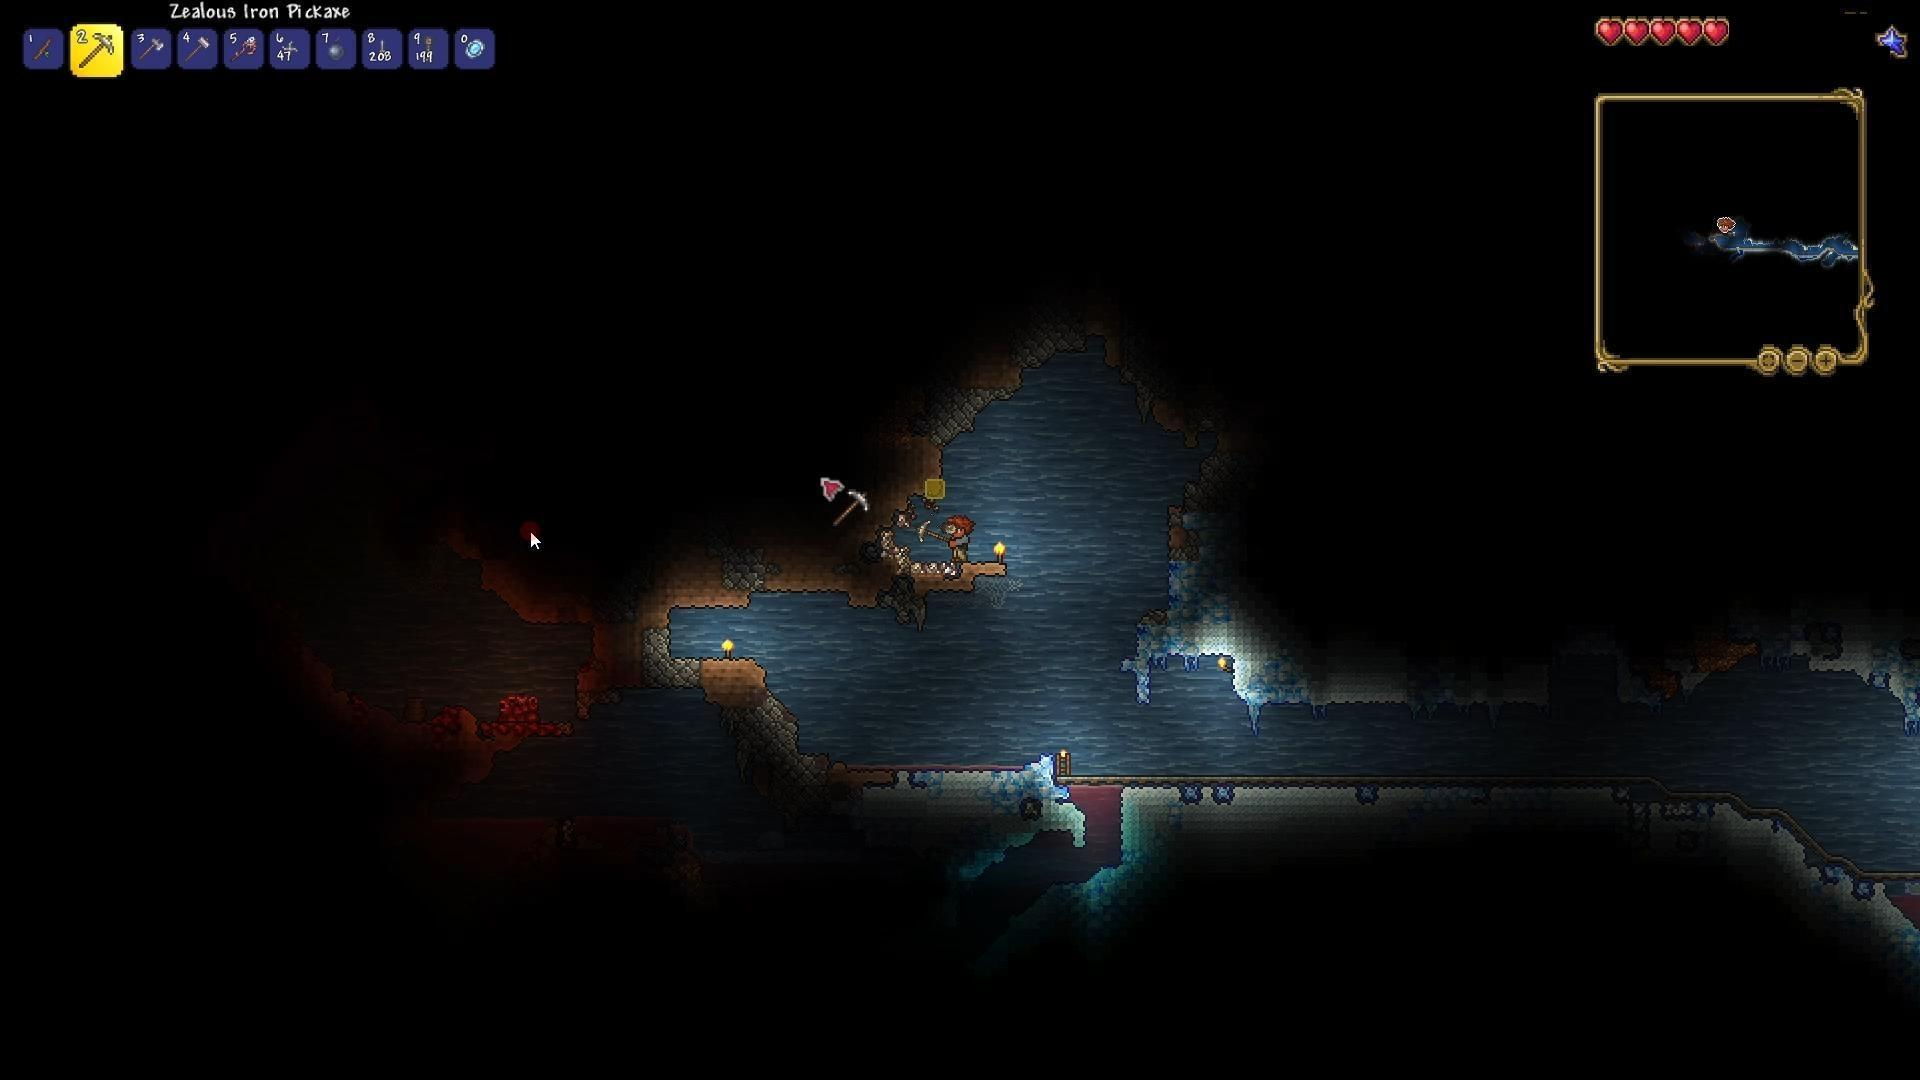heart: (1702, 17, 1733, 51), (1593, 16, 1626, 46), (1676, 15, 1704, 50), (1650, 16, 1676, 49), (1625, 15, 1651, 44)
liquid: (1062, 771, 1121, 820)
stone: (931, 357, 1011, 444), (744, 688, 799, 783), (644, 638, 707, 688)
